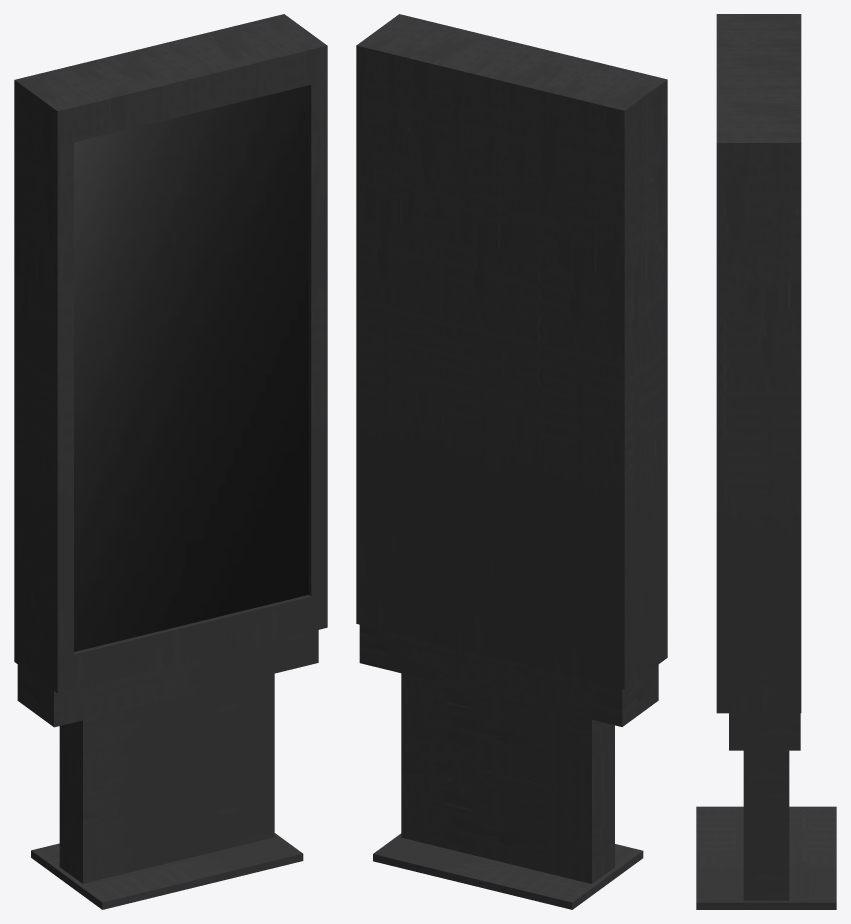
The model's file is LGSeochoB1MachineOutdoorDisplay.fbx.
3 views of the same model, side by side, from view 1: azimuth 30°, elevation 25°; view 2: azimuth 150°, elevation 25°; view 3: azimuth 270°, elevation 25° (orthographic). The views are drawn at different scales.
Visible parts, largest first — view 1: LGSeochoB1Machine, LGSeochoB1MachineScreen; view 2: LGSeochoB1Machine; view 3: LGSeochoB1Machine.
Boxes of the visible parts, x1,y1,x2,y2 form: LGSeochoB1Machine: [14, 14, 327, 909]; LGSeochoB1MachineScreen: [74, 85, 308, 651]; LGSeochoB1Machine: [356, 14, 667, 909]; LGSeochoB1Machine: [696, 14, 836, 909].
Bounding box in the file's own units: 68.91 × 195 × 31.59.
2 materials, 2 textured.
